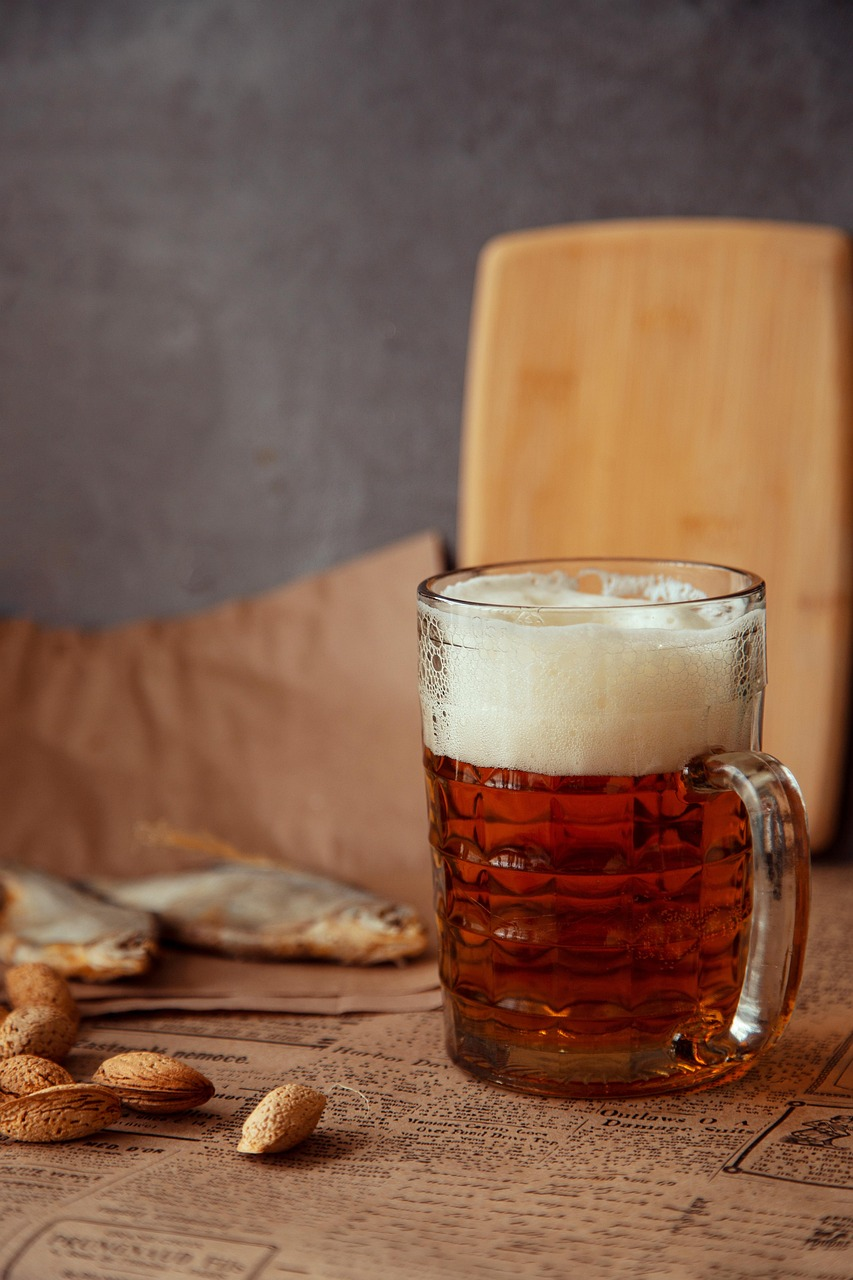mug: (411, 530, 811, 1131)
